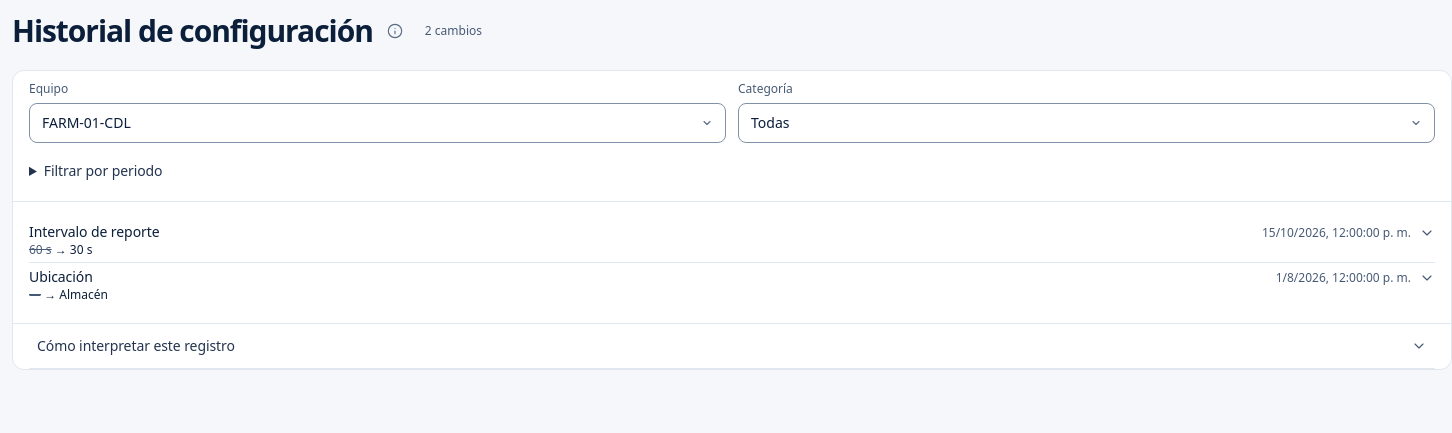
ConfiguracionEquiposPage — HU-49: historial de configuración para el auditor › filtra por categoría en el servidor
Select "Calibración" in the dropdown labelled "Categoría": (1086, 122) [738,102,1435,142]
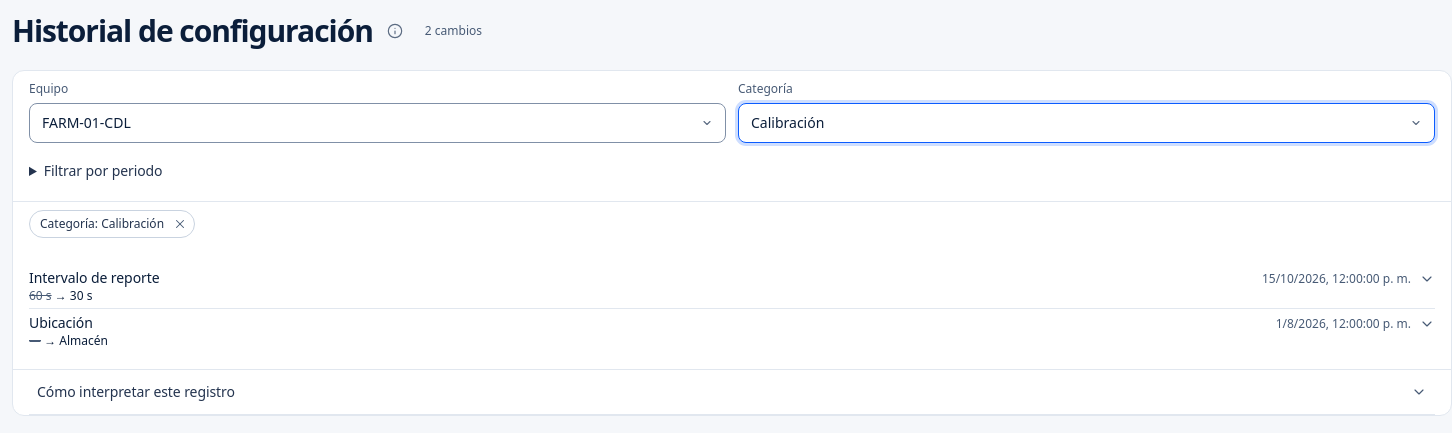
Expected: the list item "Categoría: Calibración" is shown, [29,210,195,238]
